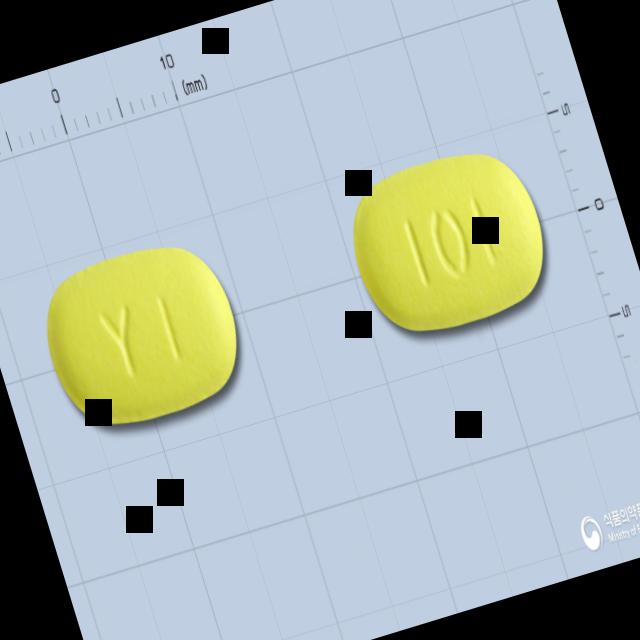Clarithromycin Tab- LGCI: (334, 133, 562, 348), (29, 228, 255, 439)
